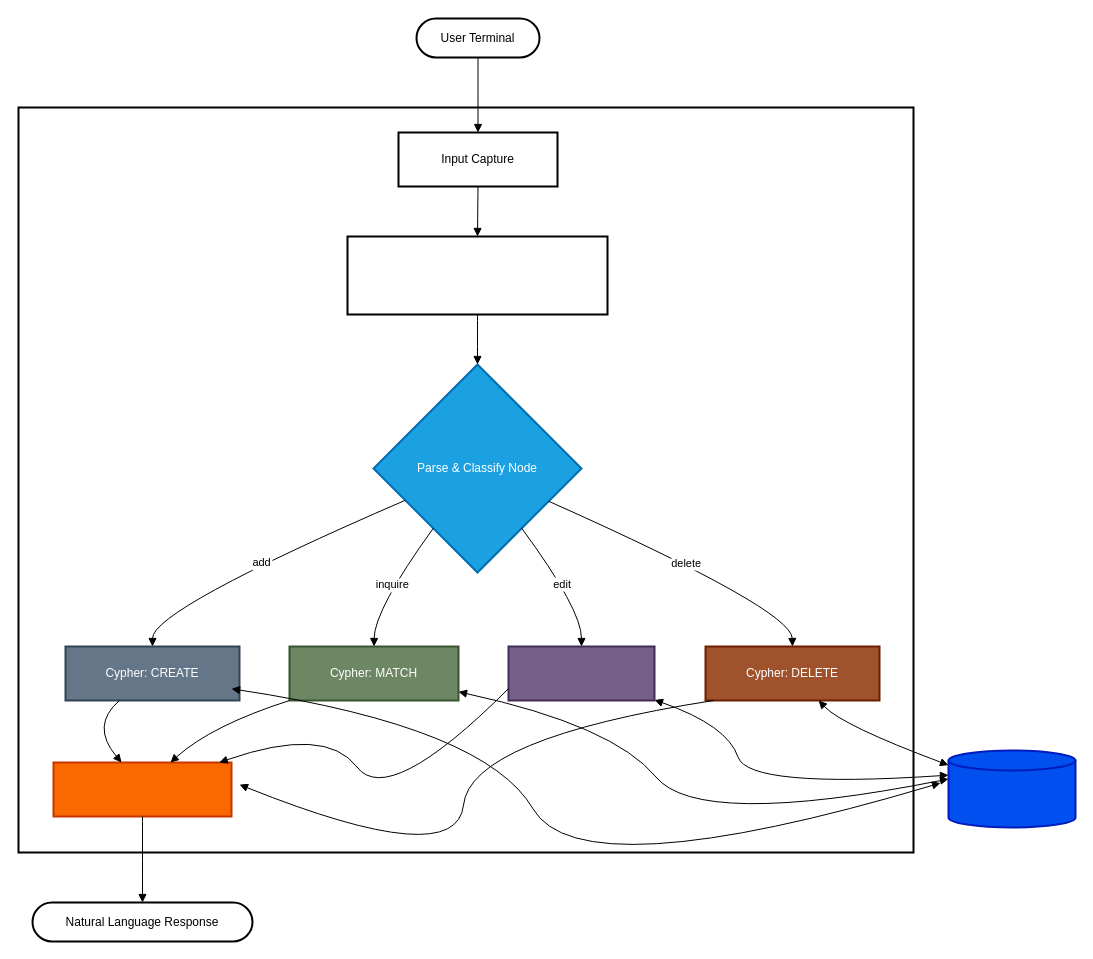
The diagram is 1093 pixels wide and 959 high, and some of its shapes have lost their labels. The shapes that lost their labels are listed below. From the top down, each one's centre as x and y in pixels, then its label:
At [477,275]: "Conversation History Manager".
At [581,673]: "Cypher: SET".
At [142,789]: "Synthesis Engine".
At [1011,788]: "Neo4j Database".
